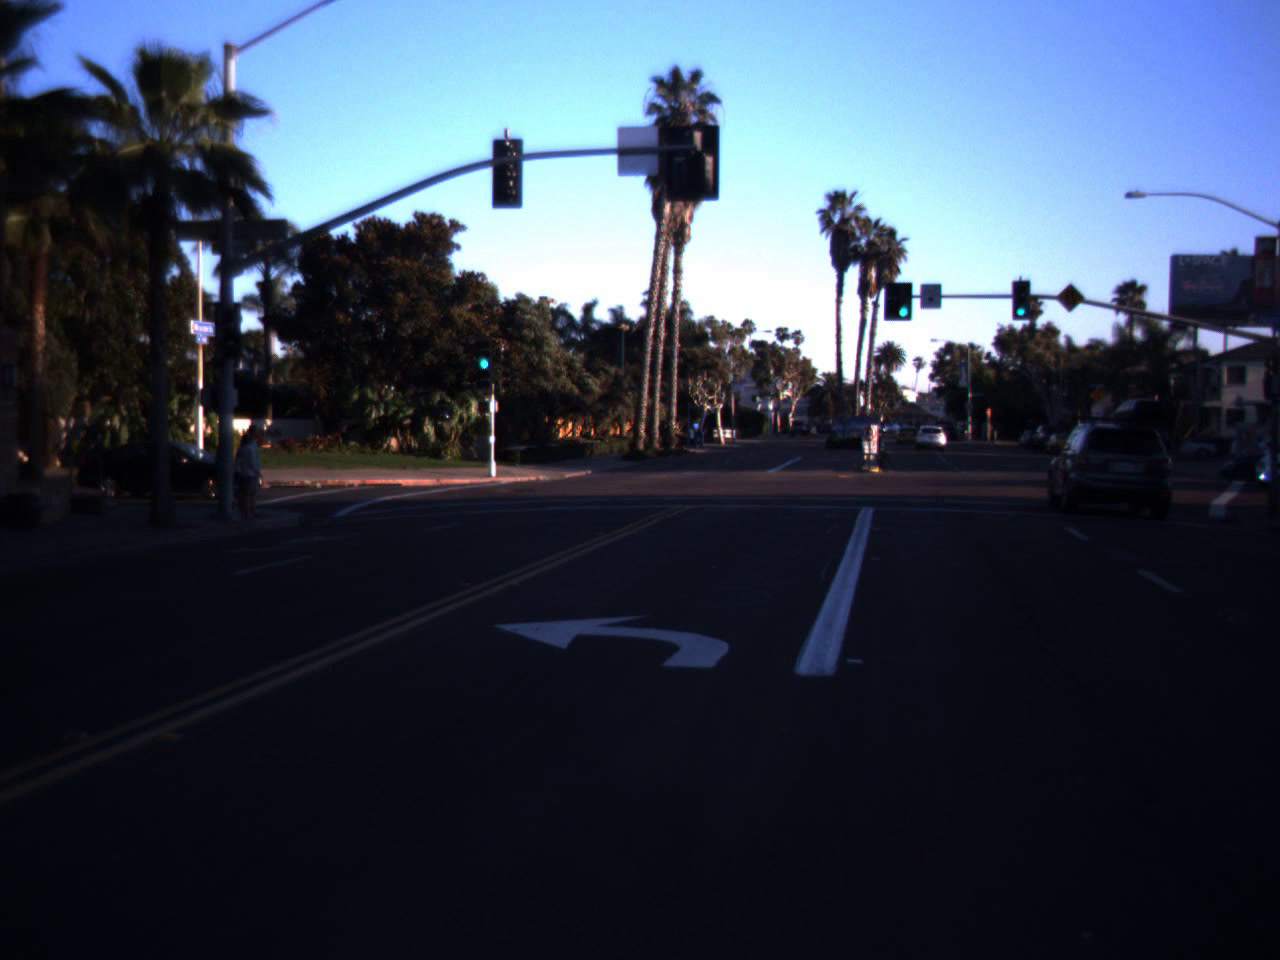go: (1009, 280, 1033, 320), (474, 332, 495, 372), (893, 280, 914, 320)
